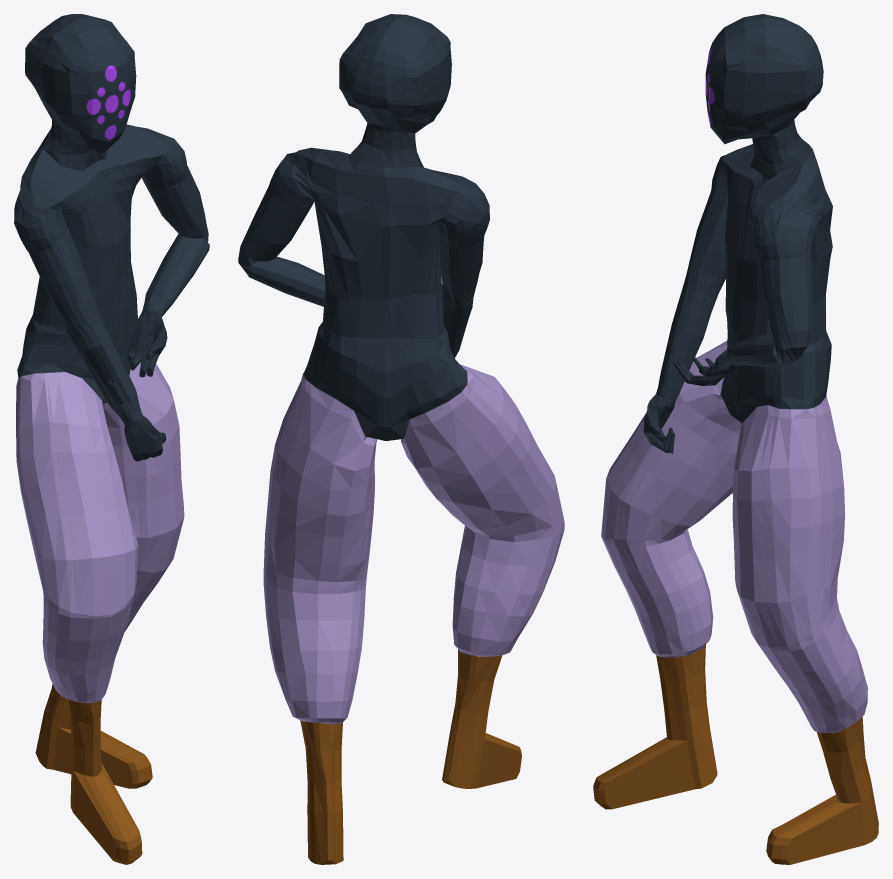
File: Oracle_WF_000006.obj
3 renders of one model, left to right at view 1: azimuth 30°, elevation 25°; view 2: azimuth 150°, elevation 25°; view 3: azimuth 270°, elevation 25°, orthographic. The views are drawn at different scales.
Visible parts, largest first — view 1: Cube; view 2: Cube; view 3: Cube.
Boxes of the visible parts, x1,y1,x2,y2 form: Cube: [14, 14, 209, 864]; Cube: [238, 14, 564, 864]; Cube: [593, 14, 878, 864].
Bounding box in the file's own units: 1.2 × 3.85 × 1.23.
